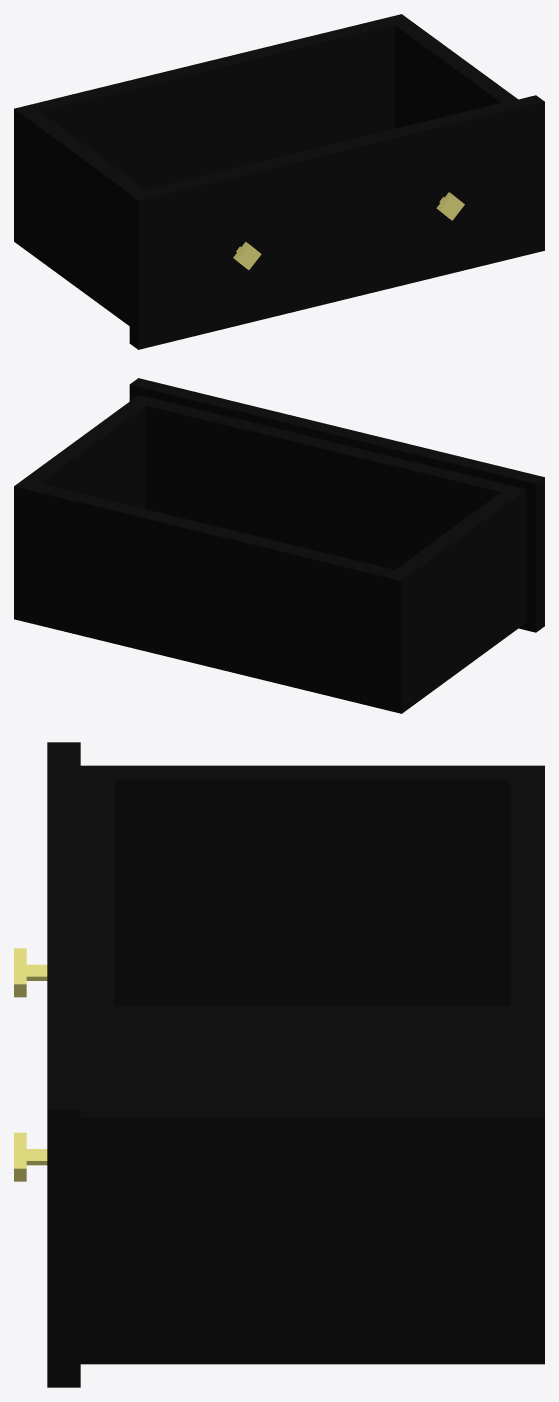
The model's file is Itr_Wardrobe2_Drawer_Big_05.FBX.
3 views of the same model, one above another, from view 1: azimuth 30°, elevation 25°; view 2: azimuth 150°, elevation 25°; view 3: azimuth 270°, elevation 25° (orthographic). The views are drawn at different scales.
Parts seen in each view (by area): view 1: Itr_Wardrobe2_Drawer_Big_05; view 2: Itr_Wardrobe2_Drawer_Big_05; view 3: Itr_Wardrobe2_Drawer_Big_05.
Boxes of the visible parts, x1=… form: Itr_Wardrobe2_Drawer_Big_05: x1=14, y1=14, x2=544, y2=349; Itr_Wardrobe2_Drawer_Big_05: x1=14, y1=378, x2=544, y2=713; Itr_Wardrobe2_Drawer_Big_05: x1=14, y1=742, x2=544, y2=1387.
Size of the model in its own units: 37.86 by 13.26 by 23.04.
